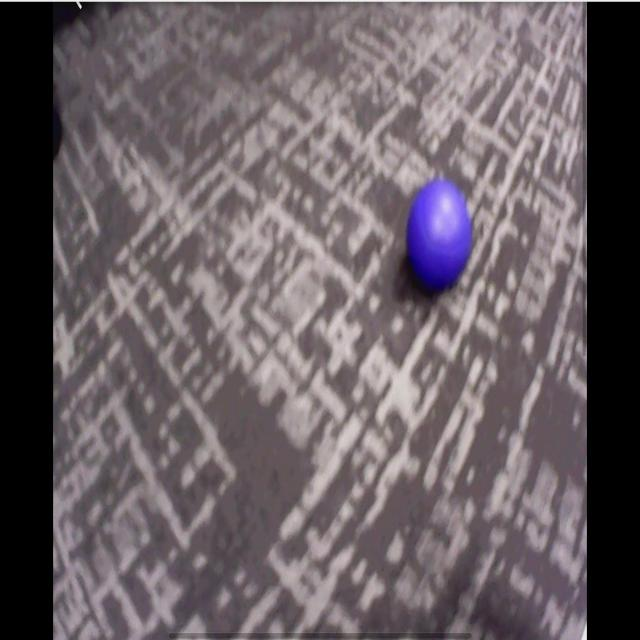ball: (409, 182, 473, 285)
